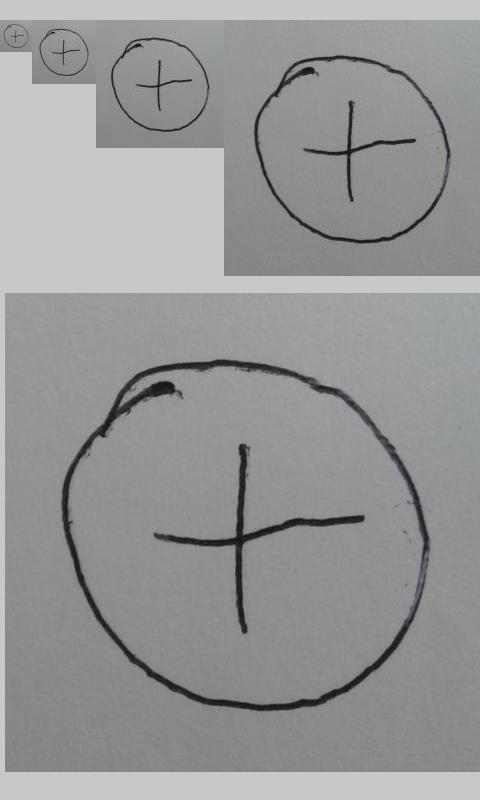button: (61, 356, 433, 716), (252, 54, 451, 244), (111, 37, 211, 133), (39, 28, 89, 77), (3, 23, 29, 49)
